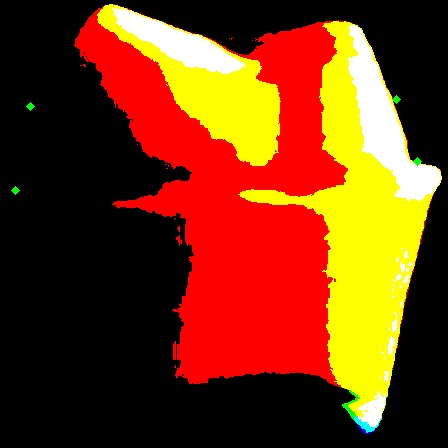coin_1: (15, 190, 35, 210)
coin_2: (30, 106, 50, 126)
coin_3: (417, 161, 437, 181)
coin_4: (396, 99, 416, 119)
